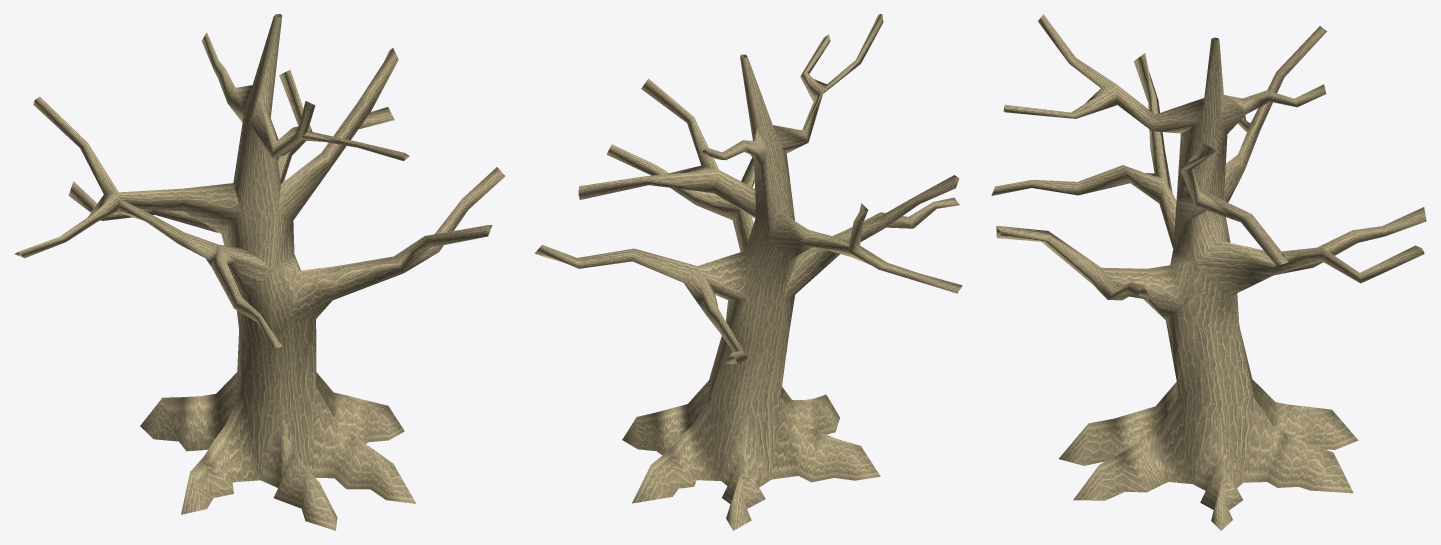
Rendered from RM_TREE_TRUNK.fbx.
The picture shows the model from 3 angles, left to right: view 1: azimuth 30°, elevation 25°; view 2: azimuth 150°, elevation 25°; view 3: azimuth 270°, elevation 25°; orthographic projection. The views are drawn at different scales.
Visible parts, largest first — view 1: RM_TREE_TRUNK; view 2: RM_TREE_TRUNK; view 3: RM_TREE_TRUNK.
Part boxes in pixels (box(x1,y1,x2,y2)): RM_TREE_TRUNK: box(15, 14, 505, 530); RM_TREE_TRUNK: box(534, 14, 962, 530); RM_TREE_TRUNK: box(991, 14, 1426, 530).
Size of the model in its own units: 67727 by 66638 by 60935.
5 materials, 5 textured.
